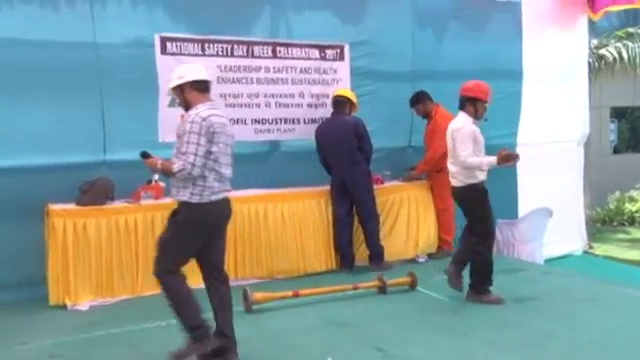helmet: (166, 64, 215, 92), (459, 77, 494, 104), (331, 86, 362, 111)
helmet_off: (409, 88, 438, 118)
helmet_on: (165, 63, 215, 113), (458, 77, 494, 119), (329, 85, 363, 117)
person: (141, 63, 241, 360), (445, 77, 516, 306), (315, 87, 392, 271), (407, 87, 457, 260)
